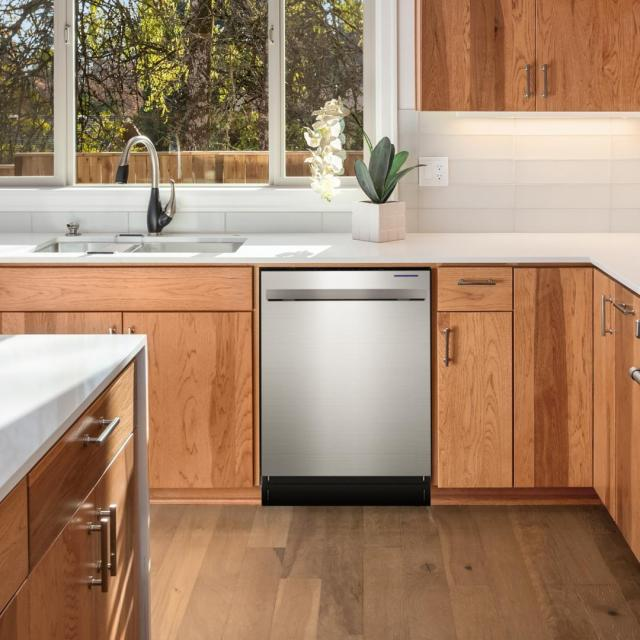dishwasher: (241, 240, 461, 529)
